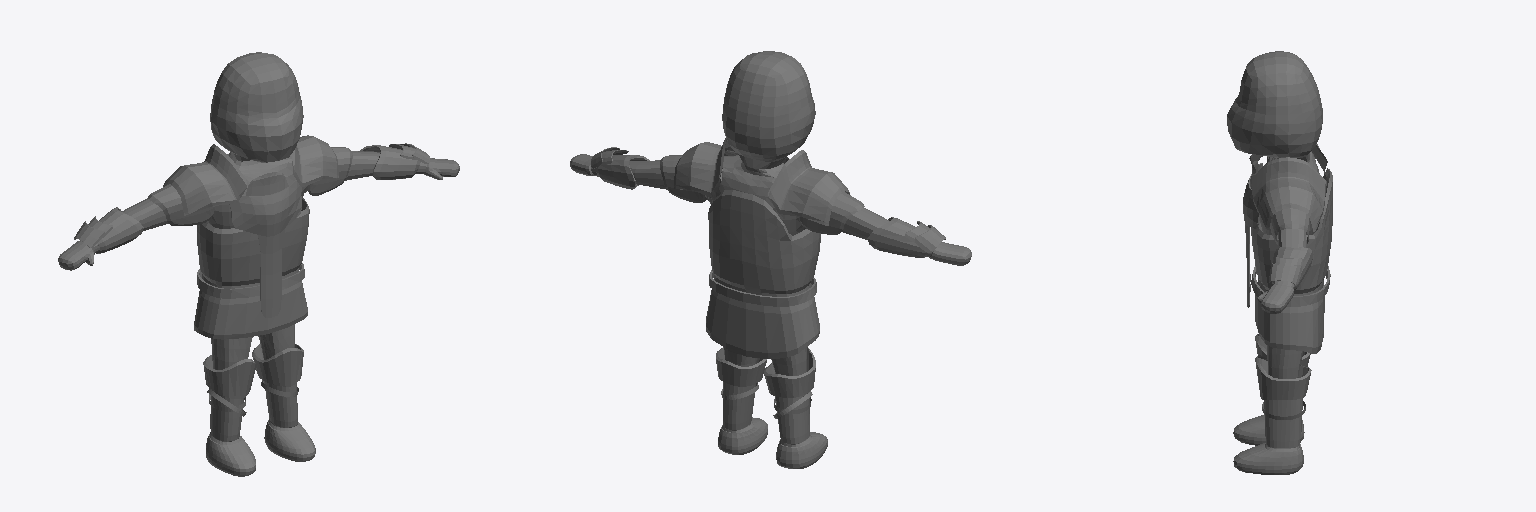
File: Warrior_base2.obj
The picture shows the model from 3 angles: view 1: azimuth 30°, elevation 25°; view 2: azimuth 150°, elevation 25°; view 3: azimuth 270°, elevation 25°; orthographic projection.
Visible parts, largest first — view 1: polySurface157; view 2: polySurface157; view 3: polySurface157.
Part boxes in pixels (left/top/right/bottom): polySurface157: left=58, top=52, right=459, bottom=476; polySurface157: left=570, top=51, right=971, bottom=468; polySurface157: left=1227, top=51, right=1332, bottom=474.
Bounding box in the file's own units: 13.78 × 13.13 × 3.19.